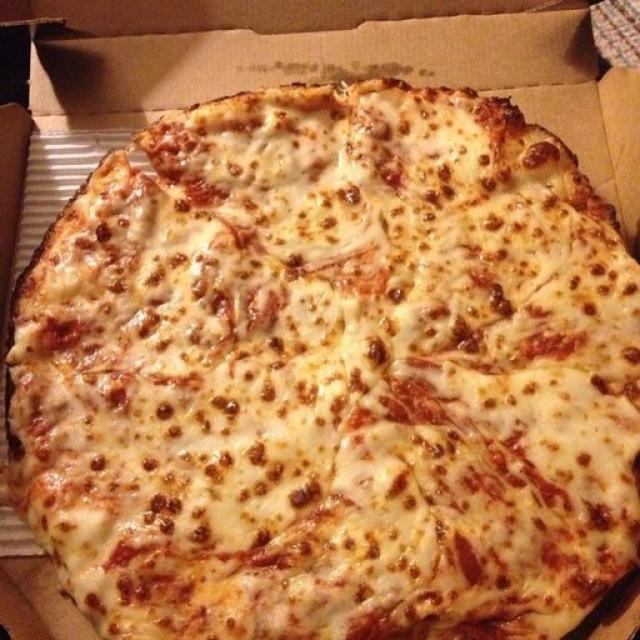Pizza: (5, 80, 640, 640)
